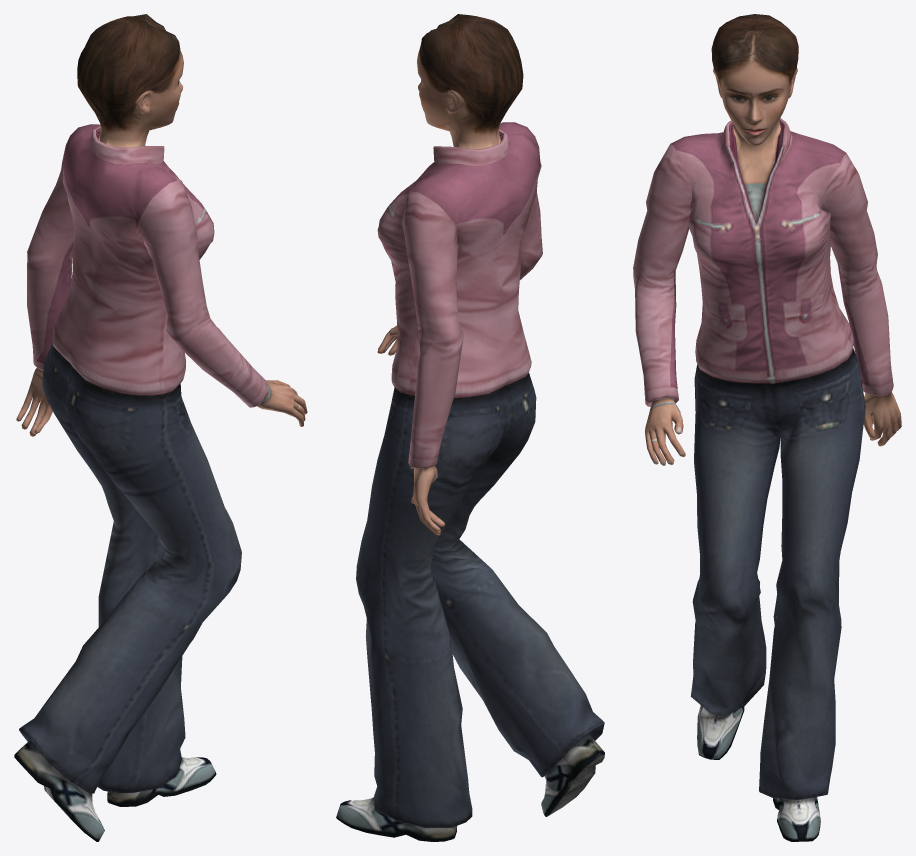
Rendered from sk_pasha.fbx.
3 views of the same model, side by side, from view 1: azimuth 30°, elevation 25°; view 2: azimuth 150°, elevation 25°; view 3: azimuth 270°, elevation 25° (orthographic). The views are drawn at different scales.
Parts seen in each view (by area): view 1: sk_pasha; view 2: sk_pasha; view 3: sk_pasha.
Boxes of the visible parts, x1,y1,x2,y2 form: sk_pasha: (14,14,307,841); sk_pasha: (336,14,604,841); sk_pasha: (633,14,901,841).
Bounding box in the file's own units: 0.5686 × 1.69 × 0.5323.
1 material, 1 textured.
